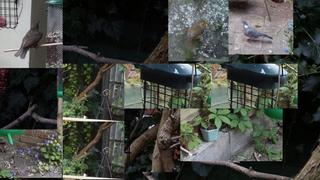robin: (185, 20, 208, 46)
starling: (14, 20, 43, 59)
wood pigeon: (241, 20, 273, 42)
